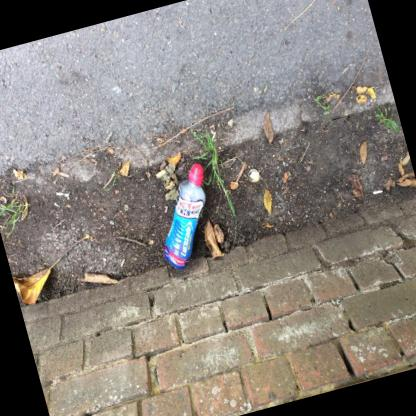Metal: (246, 167, 258, 181)
Paper: (371, 189, 381, 193)
Plastic: (162, 162, 204, 268)
